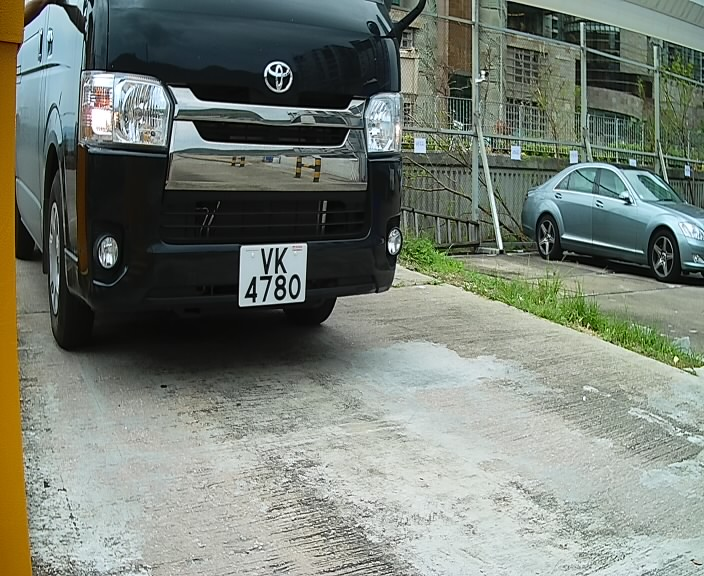Car: (24, 4, 407, 378)
License Plate: (236, 242, 315, 316)
